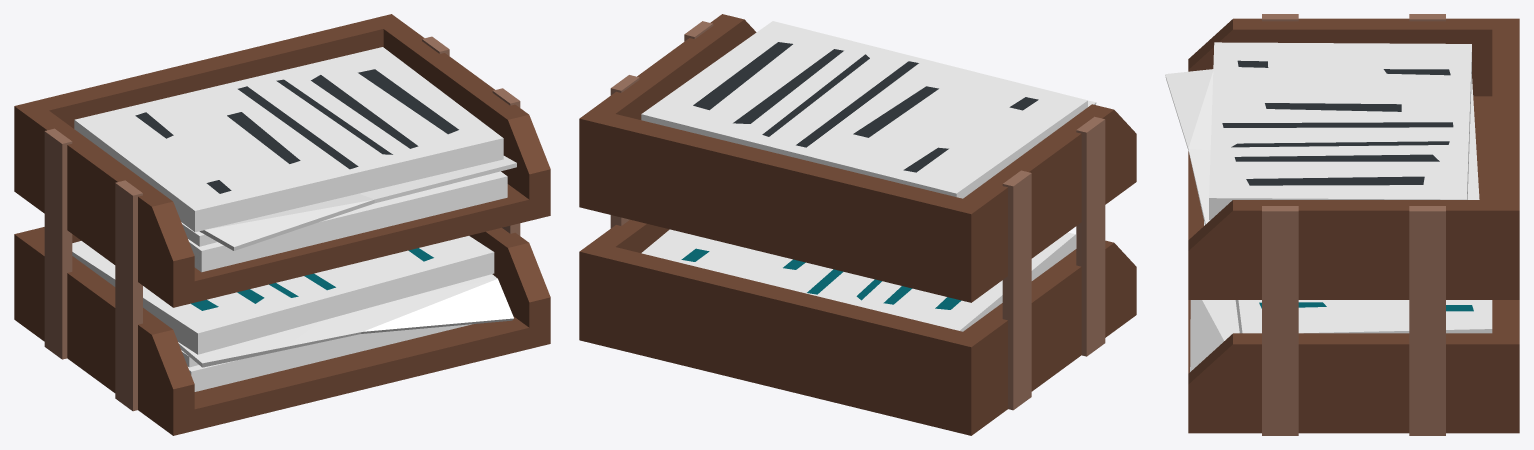
File: LetterTray.fbx
3 renders of one model, left to right at view 1: azimuth 30°, elevation 25°; view 2: azimuth 150°, elevation 25°; view 3: azimuth 270°, elevation 25°, orthographic. The views are drawn at different scales.
Parts seen in each view (by area): view 1: LetterTray_01; view 2: LetterTray_01; view 3: LetterTray_01.
Part boxes in pixels (x1,y1,x2,y2): LetterTray_01: (14, 14, 550, 435); LetterTray_01: (579, 14, 1136, 435); LetterTray_01: (1165, 14, 1519, 435).
Size of the model in its own units: 38 by 20.2 by 28.88.
